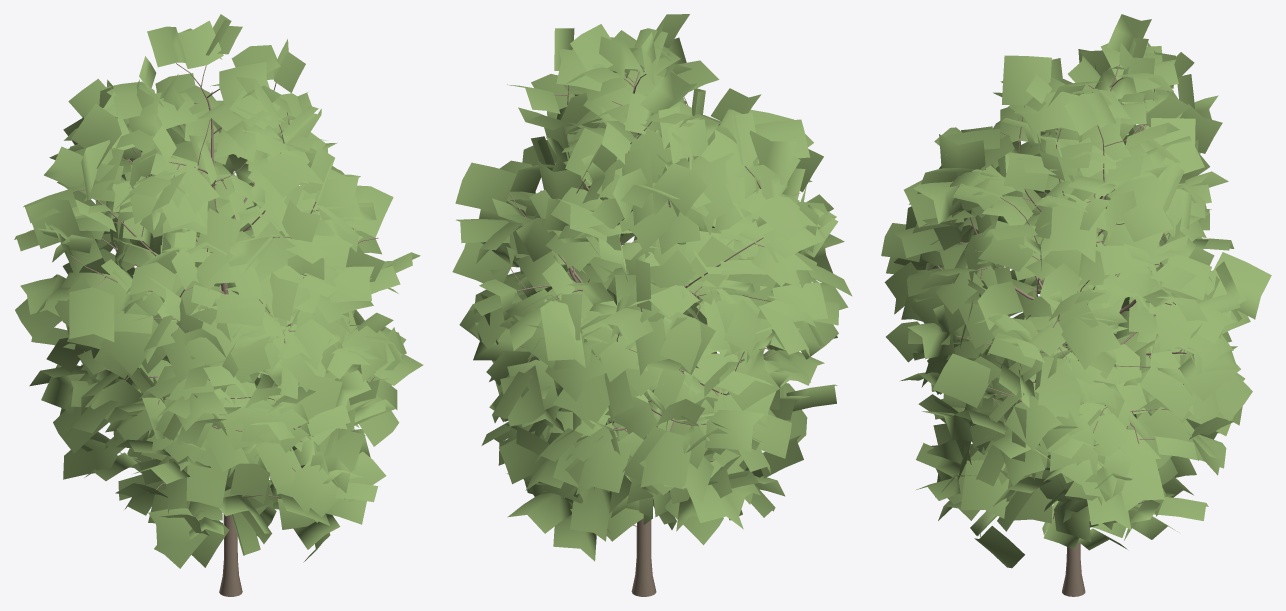
Rendered from Maple_11_young_lod0.glb.
3 views of the same model, side by side, from view 1: azimuth 30°, elevation 25°; view 2: azimuth 150°, elevation 25°; view 3: azimuth 270°, elevation 25° (orthographic). The views are drawn at different scales.
Parts seen in each view (by area): view 1: Maple_11_young_lod0; view 2: Maple_11_young_lod0; view 3: Maple_11_young_lod0.
Boxes of the visible parts, x1,y1,x2,y2 form: Maple_11_young_lod0: (14, 14, 423, 596); Maple_11_young_lod0: (452, 14, 852, 596); Maple_11_young_lod0: (881, 14, 1271, 596).
Bounding box in the file's own units: 7.53 × 11.26 × 7.09.
